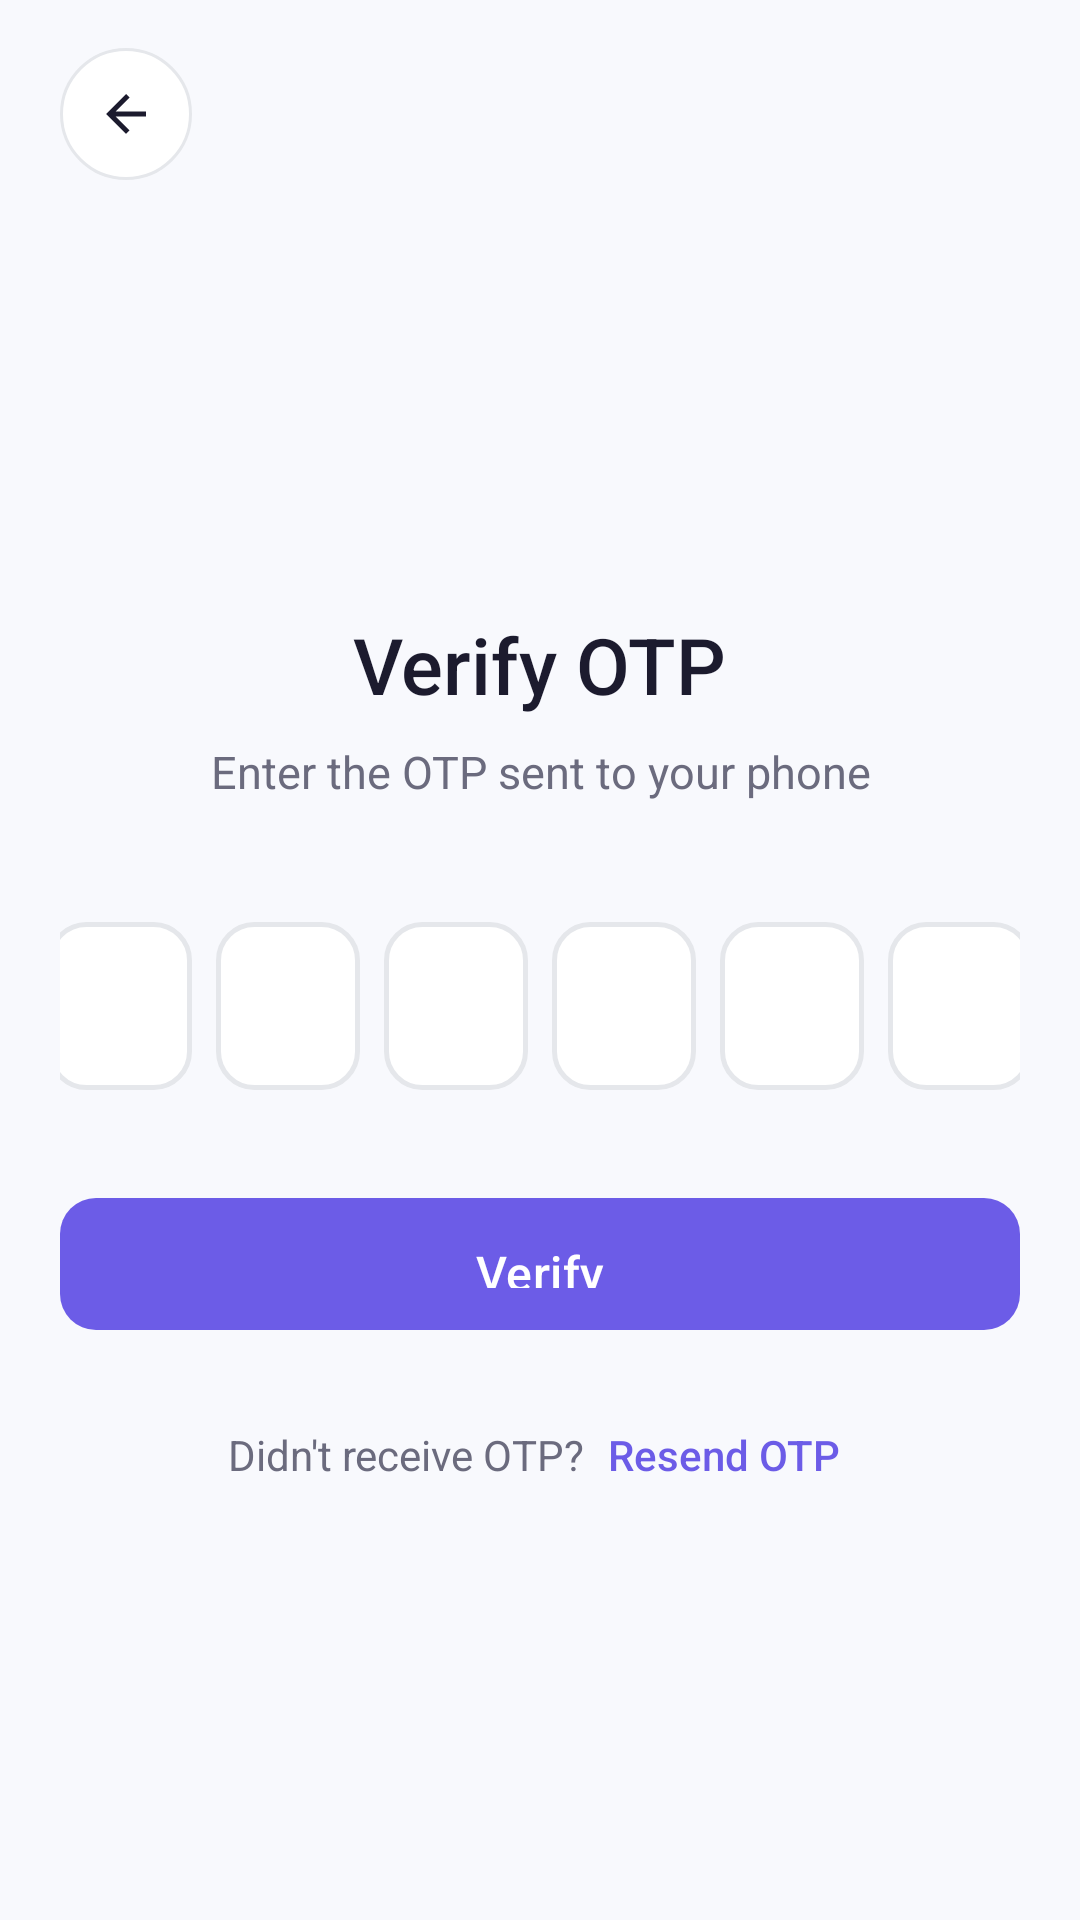

Screen size 1080*1920. Icon name, then its center in pixels as (x=x, y=y):
Back: (x=126, y=114)
